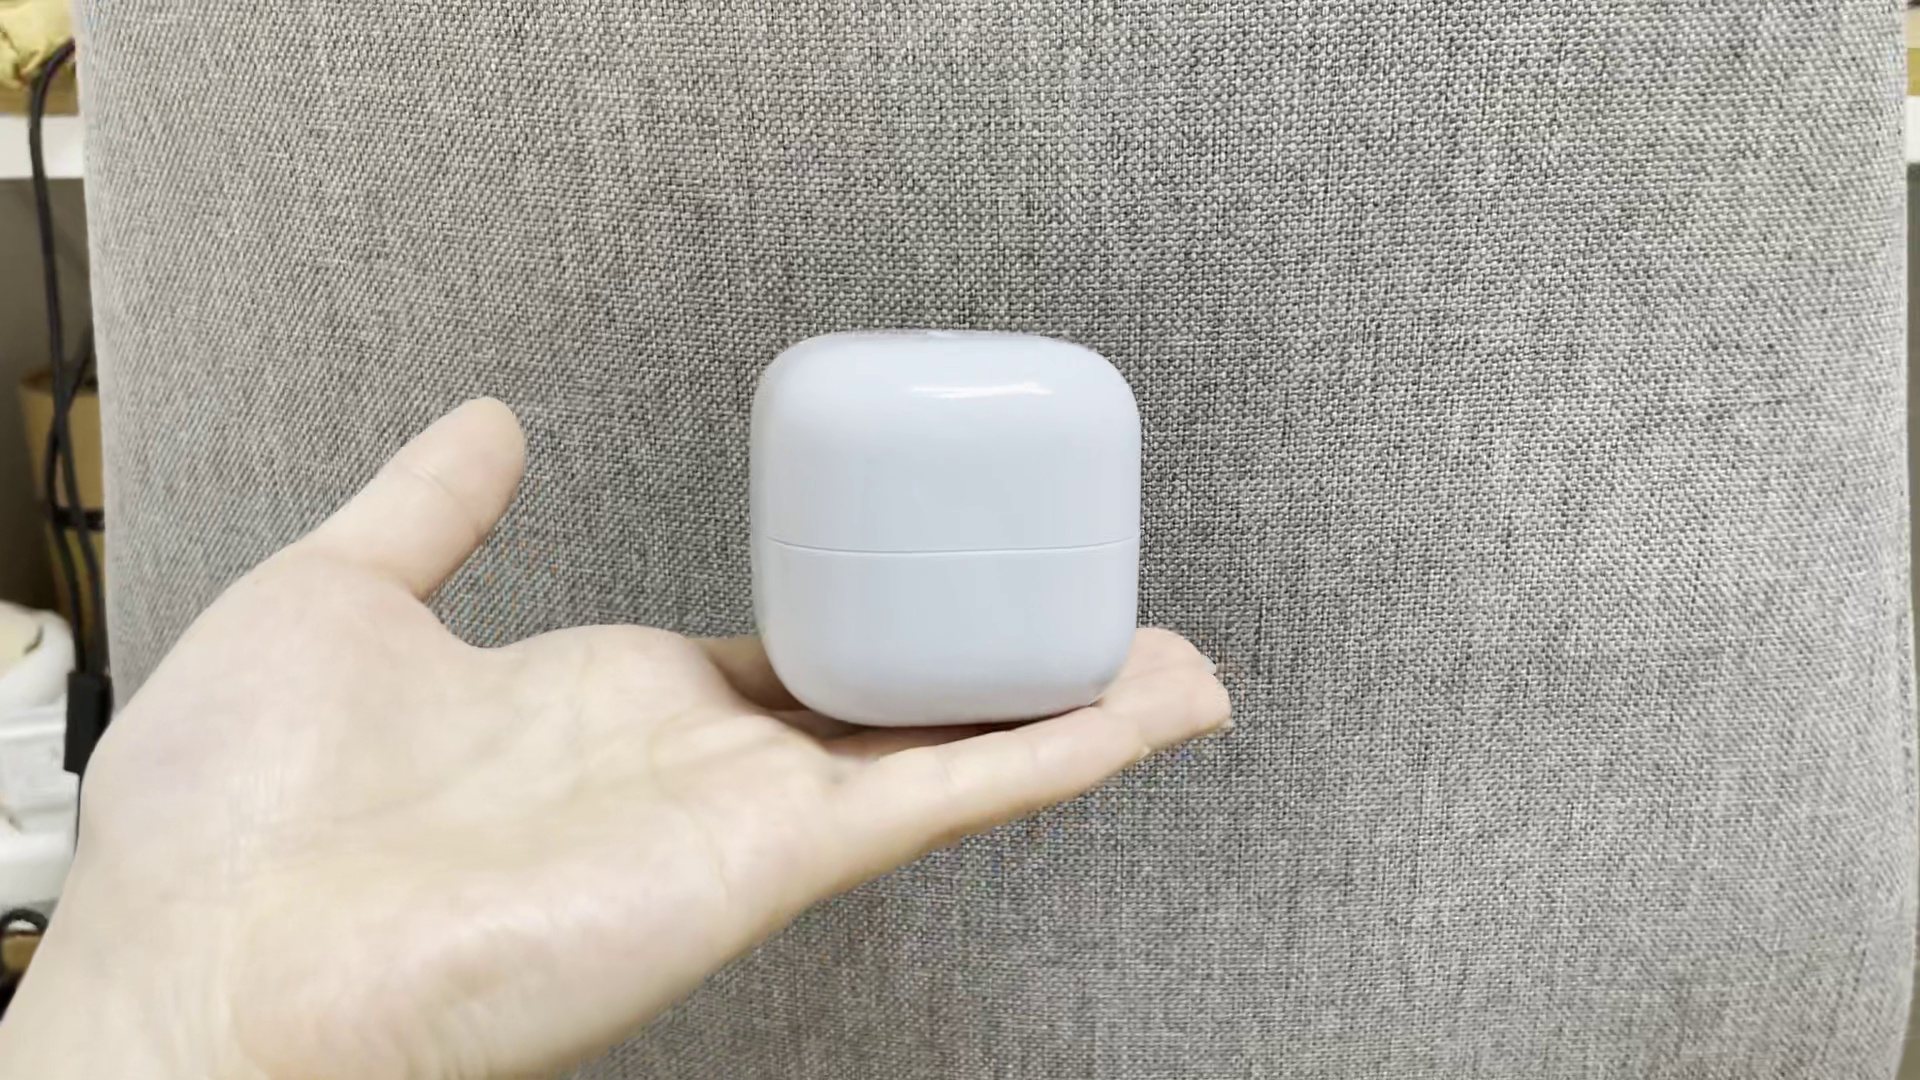cream: (750, 328, 1142, 720)
